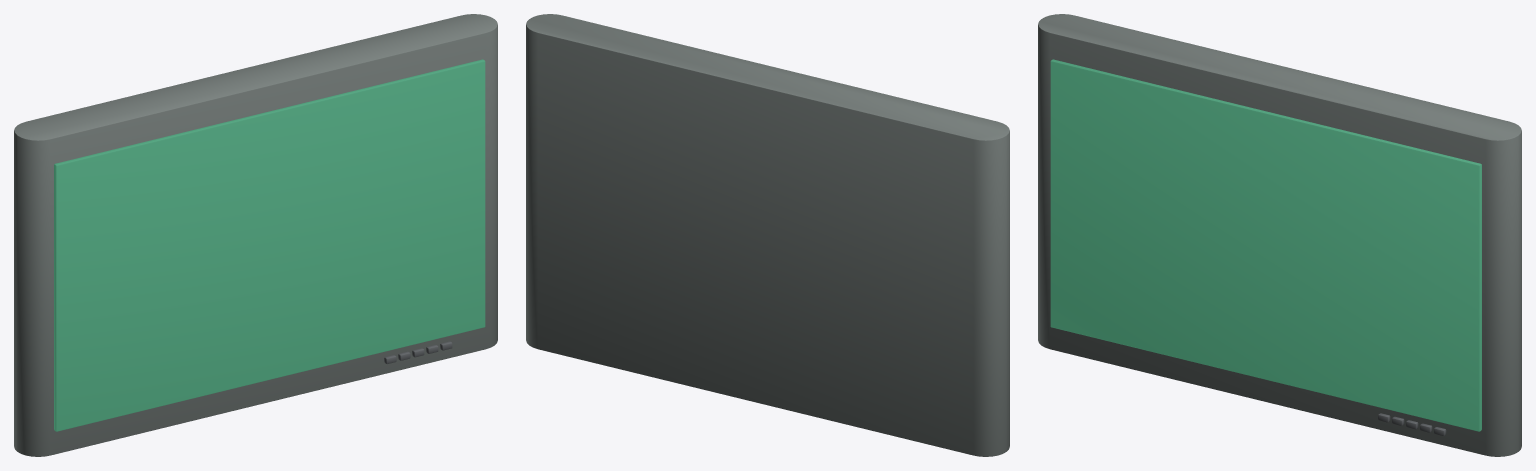
File: display_tv_municipal.glb
3 renders of one model, left to right at view 1: azimuth 30°, elevation 25°; view 2: azimuth 150°, elevation 25°; view 3: azimuth 330°, elevation 25°, orthographic.
Parts seen in each view (by area): view 1: DisplayTV_Screen, DisplayTV_Back; view 2: DisplayTV_Back; view 3: DisplayTV_Screen, DisplayTV_Back.
Boxes of the visible parts, x1,y1,x2,y2 form: DisplayTV_Screen: (54,59,485,431); DisplayTV_Back: (14,14,497,456); DisplayTV_Back: (526,14,1009,456); DisplayTV_Screen: (1050,59,1481,431); DisplayTV_Back: (1038,14,1521,456).
Size of what is drawn, in the model's own units: 0.82 by 0.52 by 0.085.
